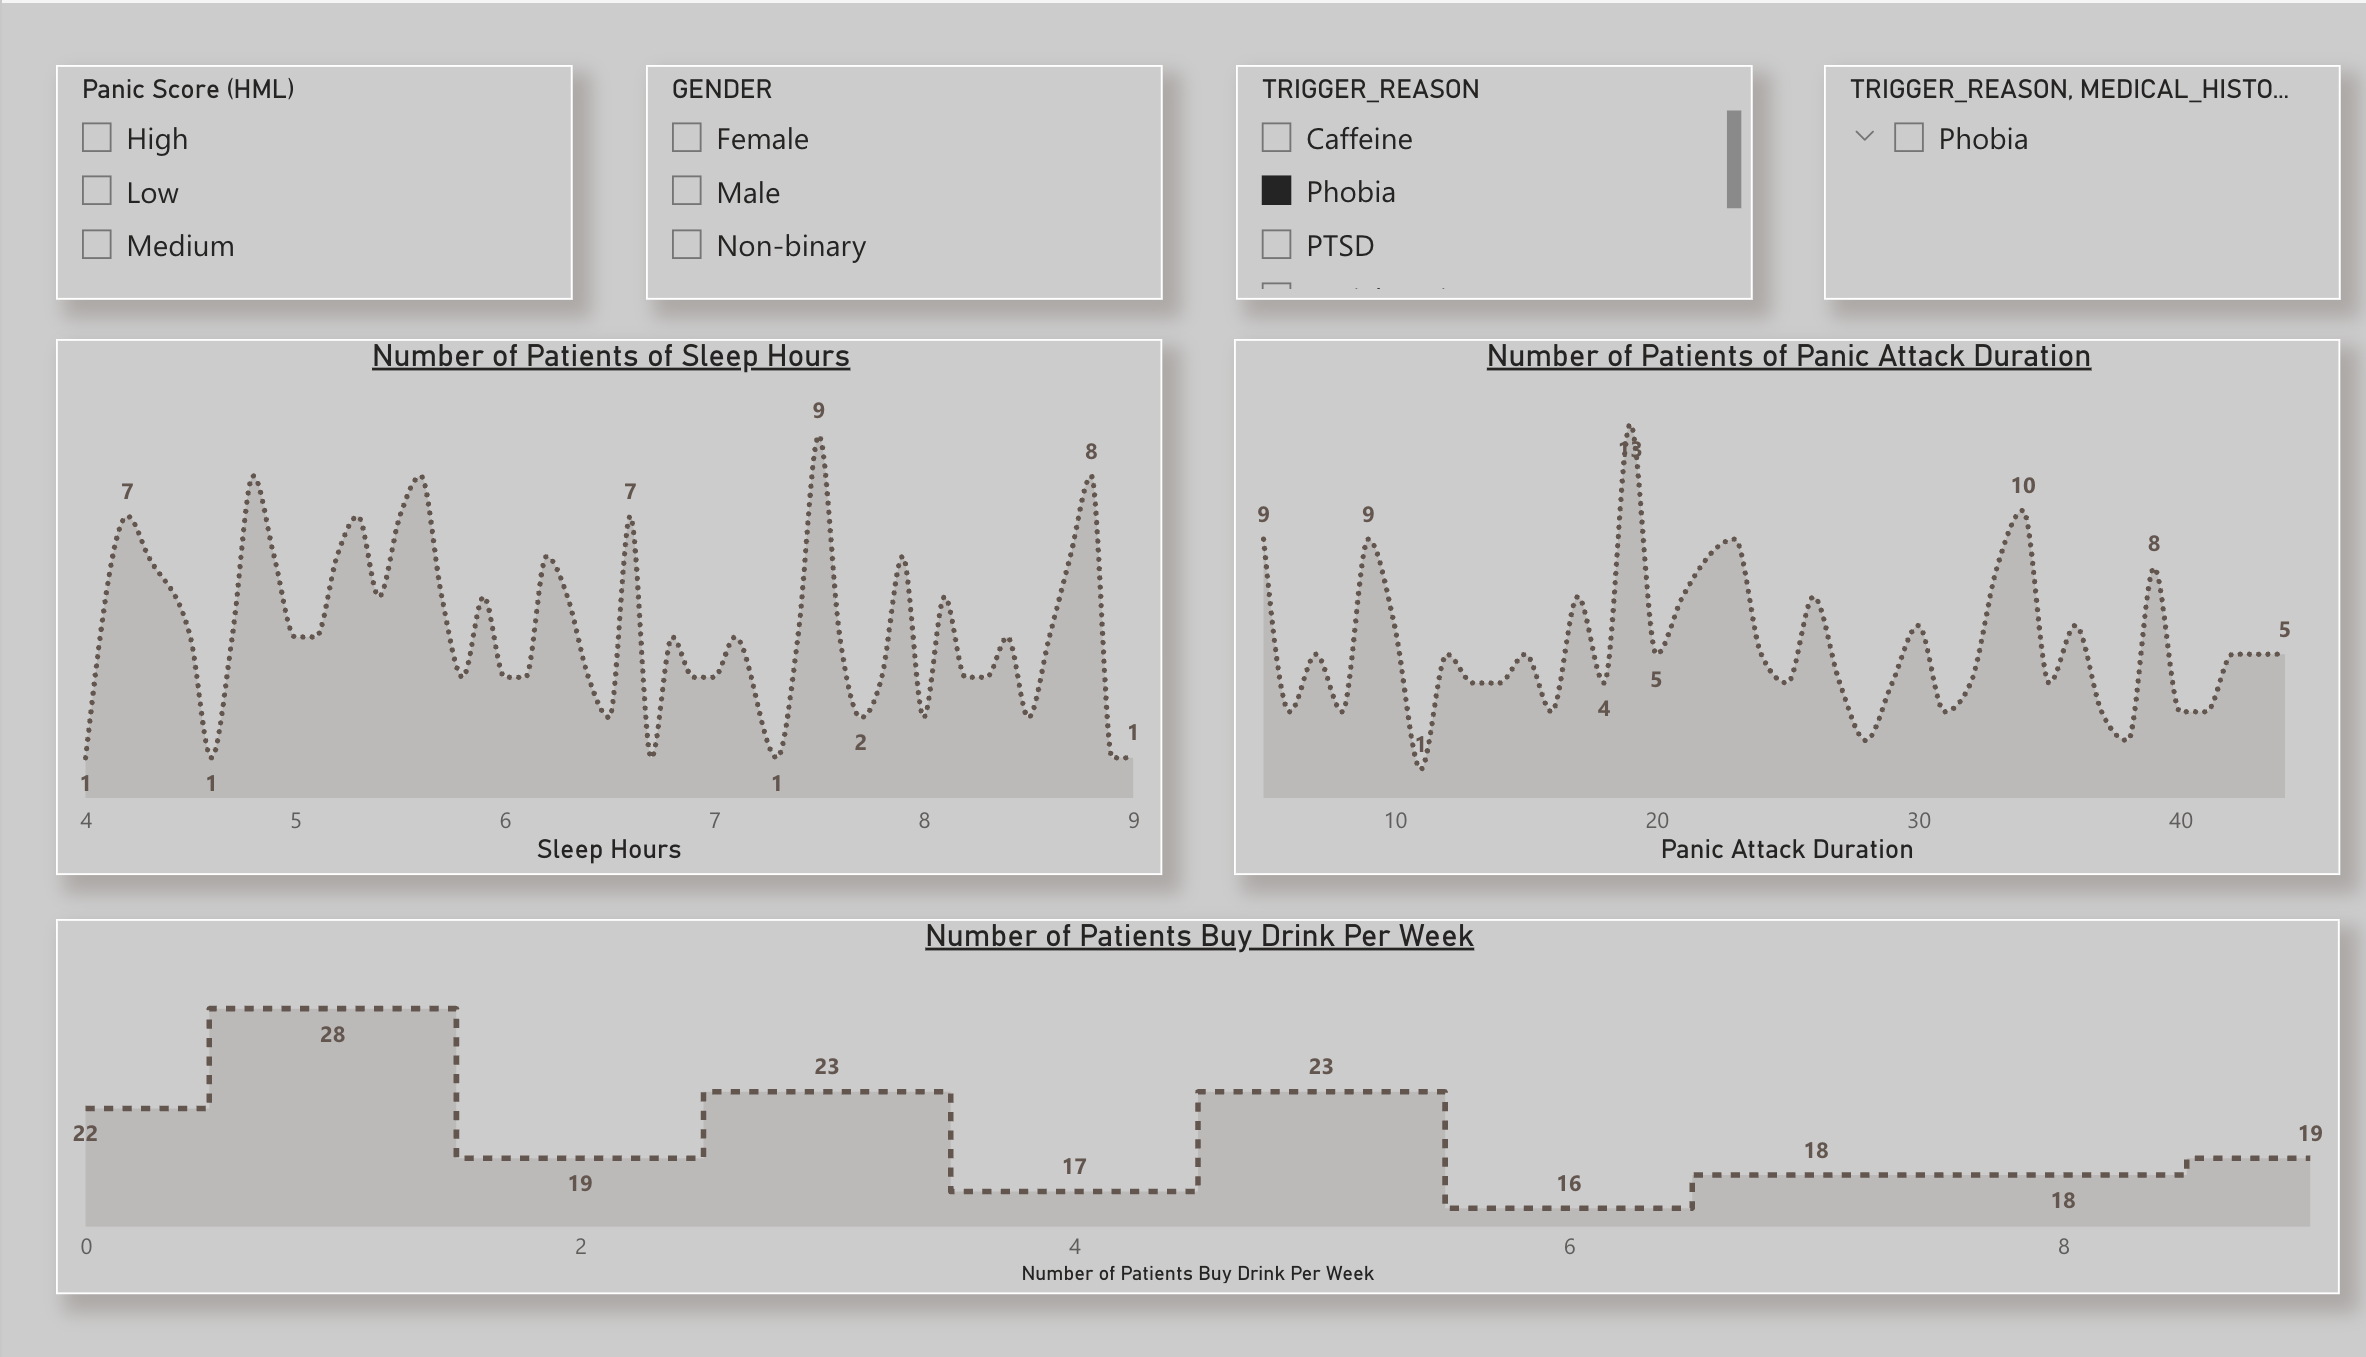

The dashboard page shown, as its layout file describes it:
{"tool":"powerbi","page":{"name":"Other Requirement","canvas":[1280,720],"ordinal":2},"visuals":[{"type":"slicer","fields":{"Values":["PANIC_ATTACK_DATA.Panic Score (HML)"]},"box":[29.6,33.9,279.3,126.9],"z":0},{"type":"slicer","fields":{"Values":["PANIC_ATTACK_DATA.GENDER"]},"box":[348.4,33.9,279.3,126.9],"z":1000},{"type":"slicer","fields":{"Values":["PANIC_ATTACK_DATA.TRIGGER_REASON","PANIC_ATTACK_DATA.MEDICAL_HISTORY"]},"box":[985.9,33.9,279.3,126.9],"z":2000},{"type":"slicer","fields":{"Values":["PANIC_ATTACK_DATA.TRIGGER_REASON"]},"box":[667.1,33.9,279.3,126.9],"z":3000},{"type":"areaChart","title":"Number of Patients Buy Drink Per Week","fields":{"Category":["PANIC_ATTACK_DATA.ALCOHOL_CONSUMPTION"],"Y":["CountNonNull(PANIC_ATTACK_DATA.ID)"]},"box":[29.6,495.1,1235.6,203.1],"z":4000},{"type":"areaChart","title":"Number of Patients of Sleep Hours","fields":{"Y":["CountNonNull(PANIC_ATTACK_DATA.ID)"],"Category":["PANIC_ATTACK_DATA.SLEEP_HOURS"]},"box":[29.6,181.9,598.7,289.9],"z":5000},{"type":"areaChart","title":"Number of Patients of Panic Attack Duration","fields":{"Y":["CountNonNull(PANIC_ATTACK_DATA.ID)"],"Category":["PANIC_ATTACK_DATA.DURATION_MINUTES"]},"box":[666.5,181.9,598.7,289.9],"z":6000}]}

Visuals, with their boxes in screenshot pixels (x1, y1, x2, y2), scaled from the page's 1280x720 canvas onto the 2366x1357 screenshot:
slicer - PANIC_ATTACK_DATA.Panic Score (HML): 55,64,571,303
slicer - PANIC_ATTACK_DATA.GENDER: 644,64,1160,303
slicer - PANIC_ATTACK_DATA.TRIGGER_REASON x PANIC_ATTACK_DATA.MEDICAL_HISTORY: 1822,64,2339,303
slicer - PANIC_ATTACK_DATA.TRIGGER_REASON: 1233,64,1749,303
"Number of Patients Buy Drink Per Week" areaChart: 55,933,2339,1316
"Number of Patients of Sleep Hours" areaChart: 55,343,1161,889
"Number of Patients of Panic Attack Duration" areaChart: 1232,343,2339,889
